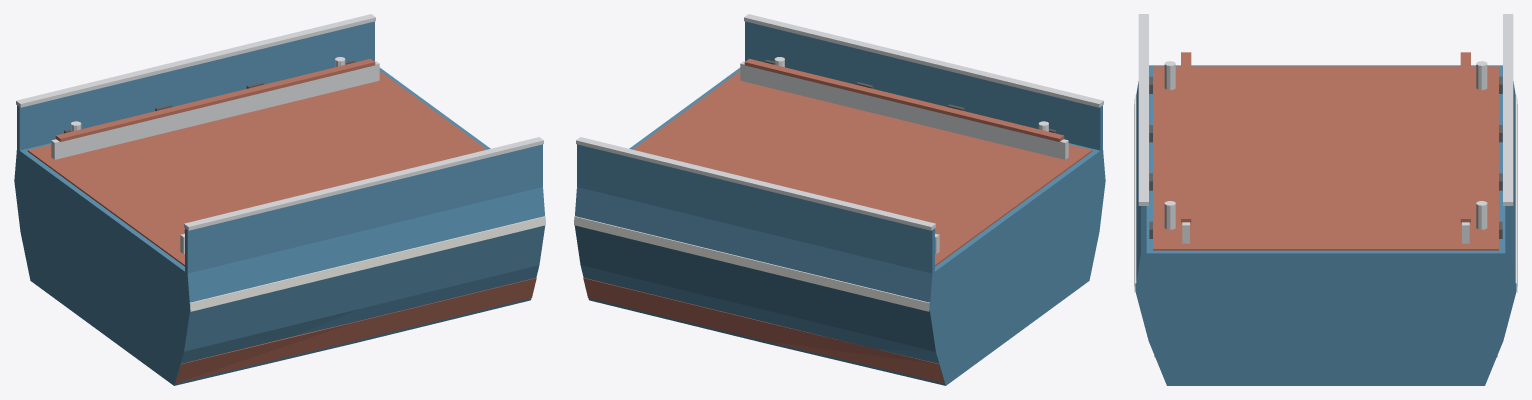
The model's file is fish-market-and-trawler-quay-fish-market-and-trawler-q-ecf3cc73__37253.glb.
3 renders of one model, left to right at view 1: azimuth 30°, elevation 25°; view 2: azimuth 150°, elevation 25°; view 3: azimuth 270°, elevation 25°, orthographic. The views are drawn at different scales.
Visible parts, largest first — view 1: fish-market-and-trawler-quay-trawler-midship-section; view 2: fish-market-and-trawler-quay-trawler-midship-section; view 3: fish-market-and-trawler-quay-trawler-midship-section.
Boxes of the visible parts, bbox=[...] form: fish-market-and-trawler-quay-trawler-midship-section: bbox=[14, 14, 545, 385]; fish-market-and-trawler-quay-trawler-midship-section: bbox=[574, 14, 1105, 385]; fish-market-and-trawler-quay-trawler-midship-section: bbox=[1134, 14, 1517, 385].
Bounding box in the file's own units: 7 × 3.19 × 6.02.
